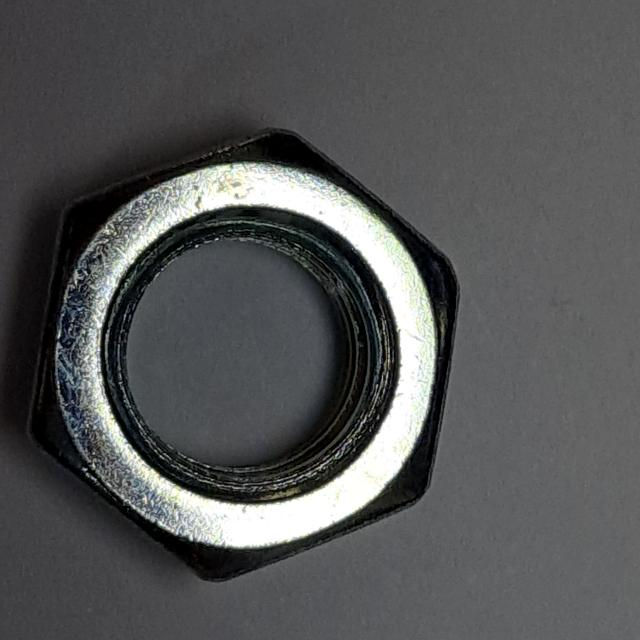Excellent: (14, 106, 474, 595)
